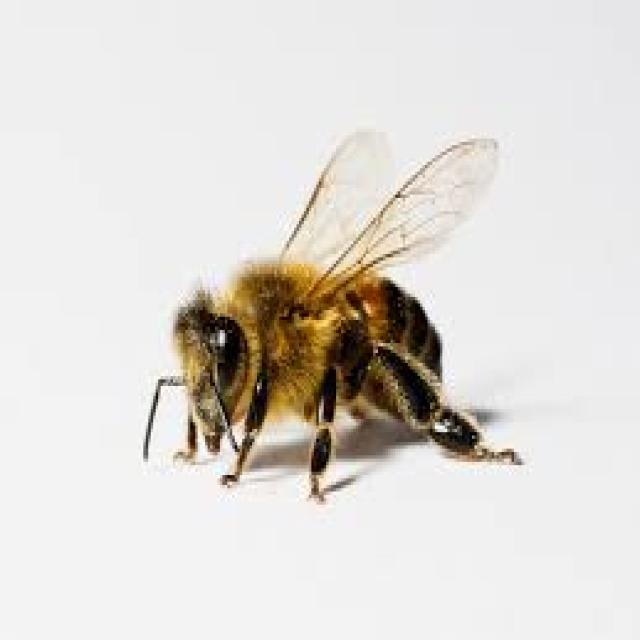Bees: (142, 128, 524, 508)
